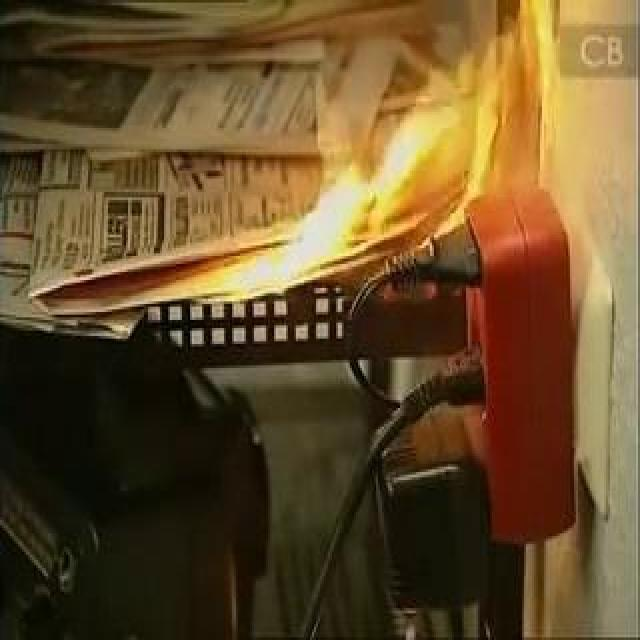Fire: (233, 2, 545, 314)
